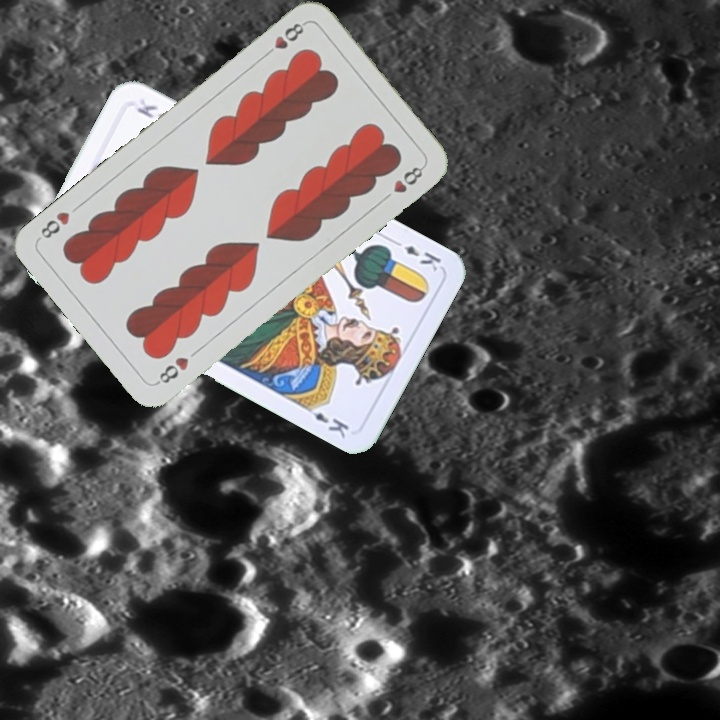EK: (388, 235, 444, 274)
H8: (260, 18, 309, 60), (152, 352, 192, 388)
